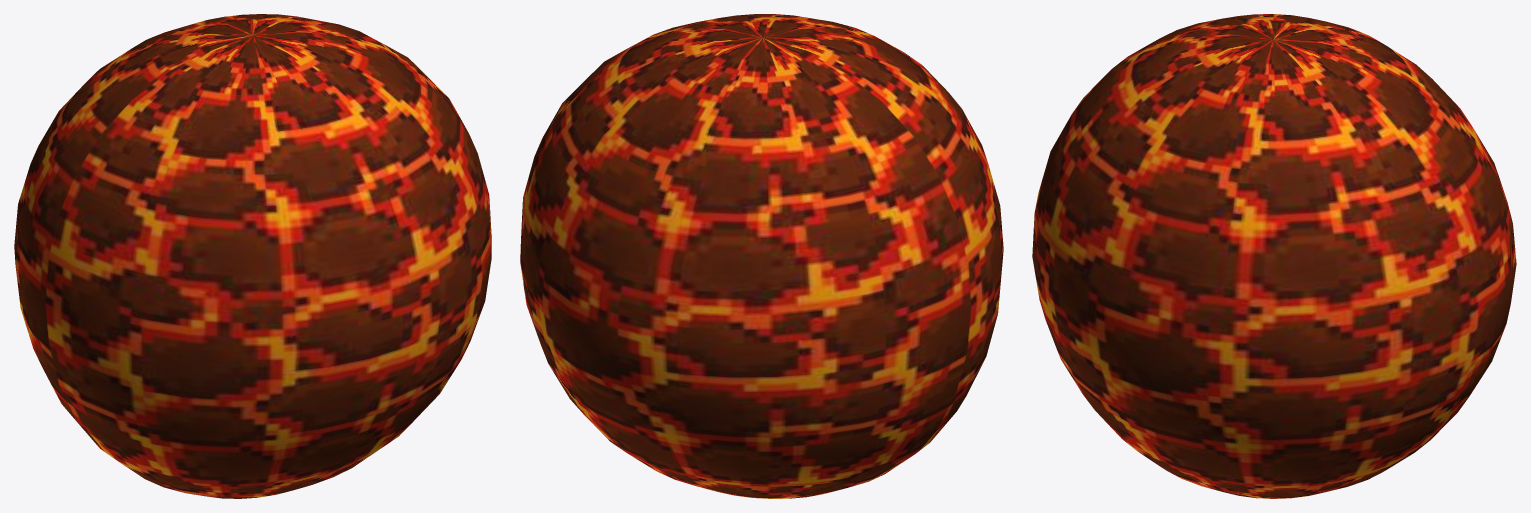
Rendered from MagmaBall.fbx.
3 renders of one model, left to right at view 1: azimuth 30°, elevation 25°; view 2: azimuth 150°, elevation 25°; view 3: azimuth 270°, elevation 25°, orthographic.
Visible parts, largest first — view 1: Sphere; view 2: Sphere; view 3: Sphere.
Part boxes in pixels (x1,y1,x2,y2): Sphere: (14,14,491,498); Sphere: (520,14,1003,498); Sphere: (1032,14,1516,498).
Size of the model in its own units: 202 by 202 by 201.
